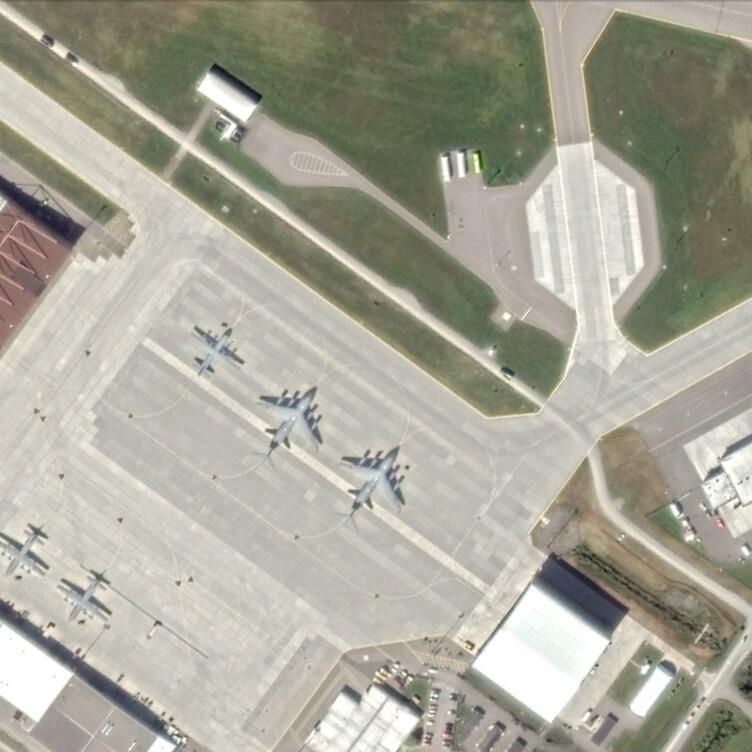A2: (181, 314, 248, 380), (54, 566, 118, 627), (0, 521, 52, 582)
A3: (331, 443, 407, 533), (251, 382, 324, 468)
